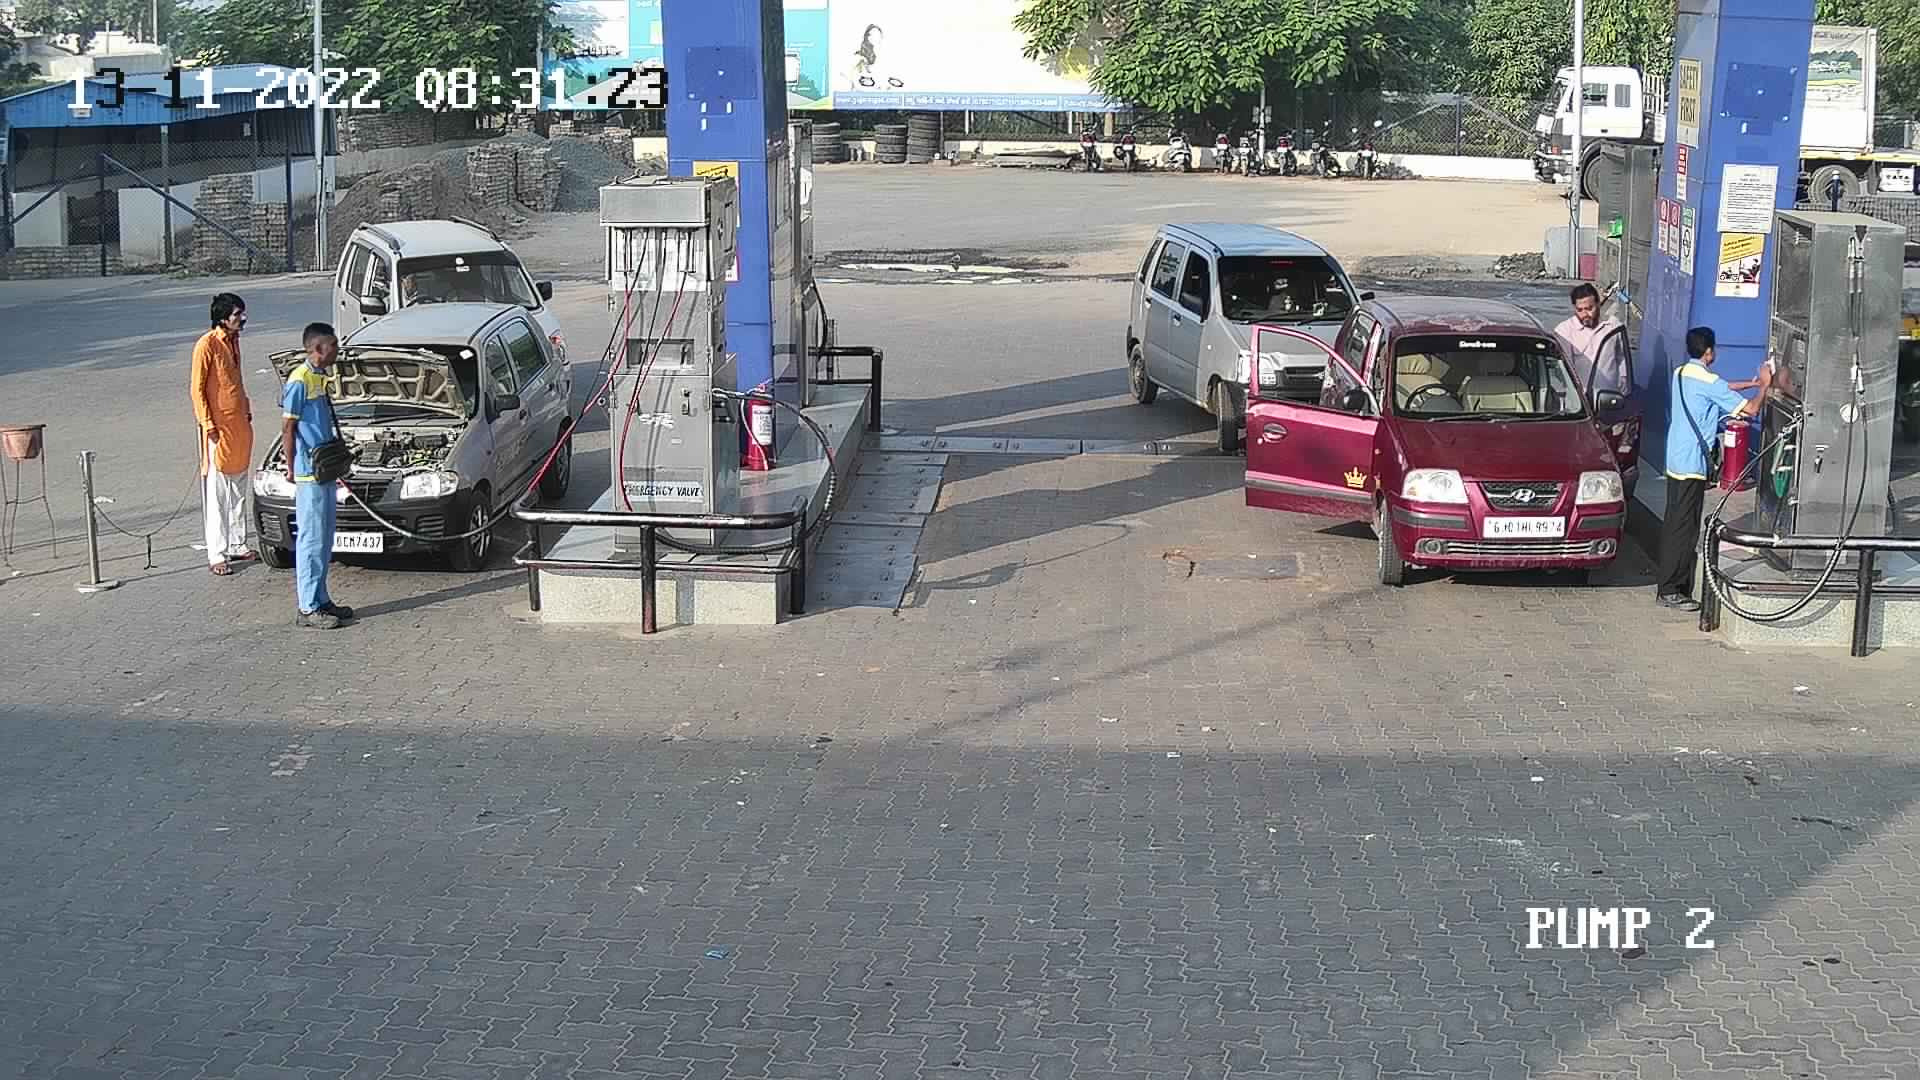Auto: (1887, 229, 1917, 504)
Bike: (1342, 113, 1390, 181), (1068, 107, 1116, 173), (1303, 111, 1345, 179), (1159, 107, 1196, 175), (1233, 113, 1273, 177), (1112, 109, 1154, 167), (1273, 107, 1305, 175), (1203, 113, 1240, 167)
Car: (1228, 285, 1642, 593), (243, 286, 585, 580), (1116, 212, 1382, 462), (311, 204, 584, 419)
HMV: (1520, 36, 1680, 204)
Others: (1642, 320, 1751, 618), (268, 316, 357, 629)
